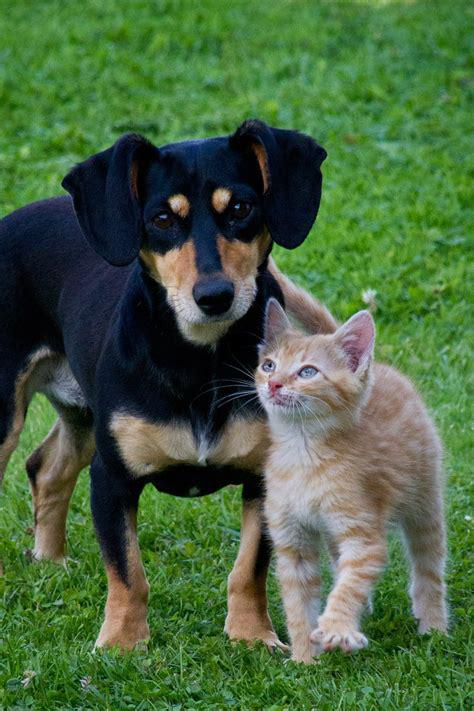cat: (261, 298, 445, 663)
dog: (1, 121, 324, 648)
